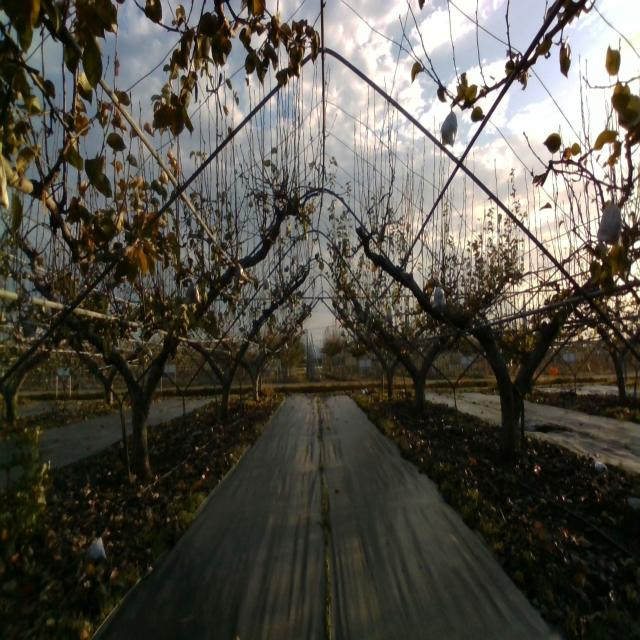pearbags: (597, 195, 622, 247), (441, 104, 458, 148), (184, 282, 202, 305), (432, 283, 447, 308), (234, 262, 244, 288)
